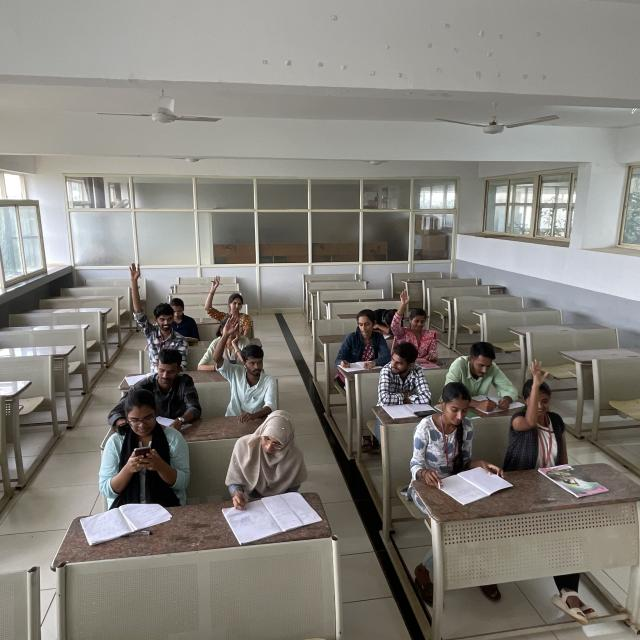Hand Rising: (509, 352, 573, 461), (215, 312, 278, 418), (127, 262, 189, 362), (389, 292, 437, 356), (202, 275, 250, 331)
Reading: (422, 384, 511, 500)
Using Phone: (100, 388, 192, 501)
Writing: (225, 414, 322, 528), (450, 339, 521, 412), (338, 311, 388, 373)
